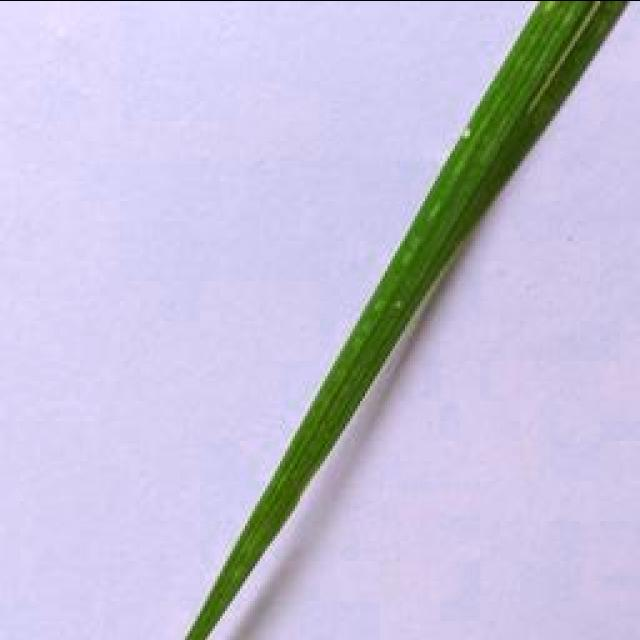Unhealthy: (525, 0, 603, 111)
